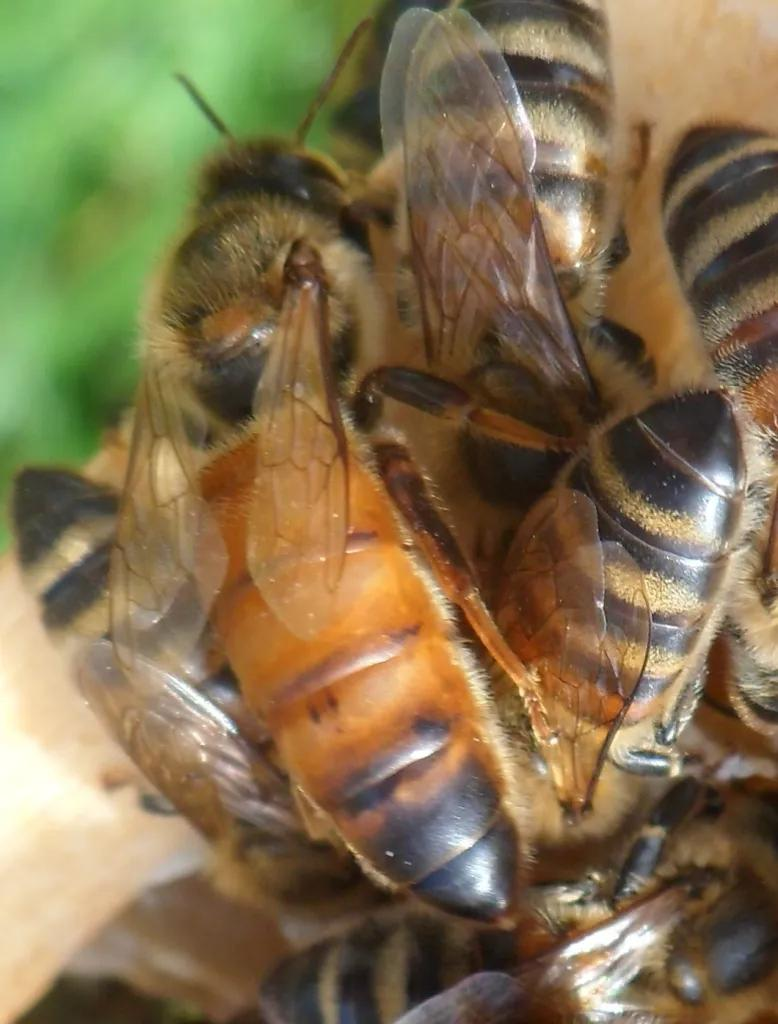Queen-Bee: (111, 79, 523, 923)
worker-bee: (379, 0, 626, 505), (495, 390, 745, 851)
